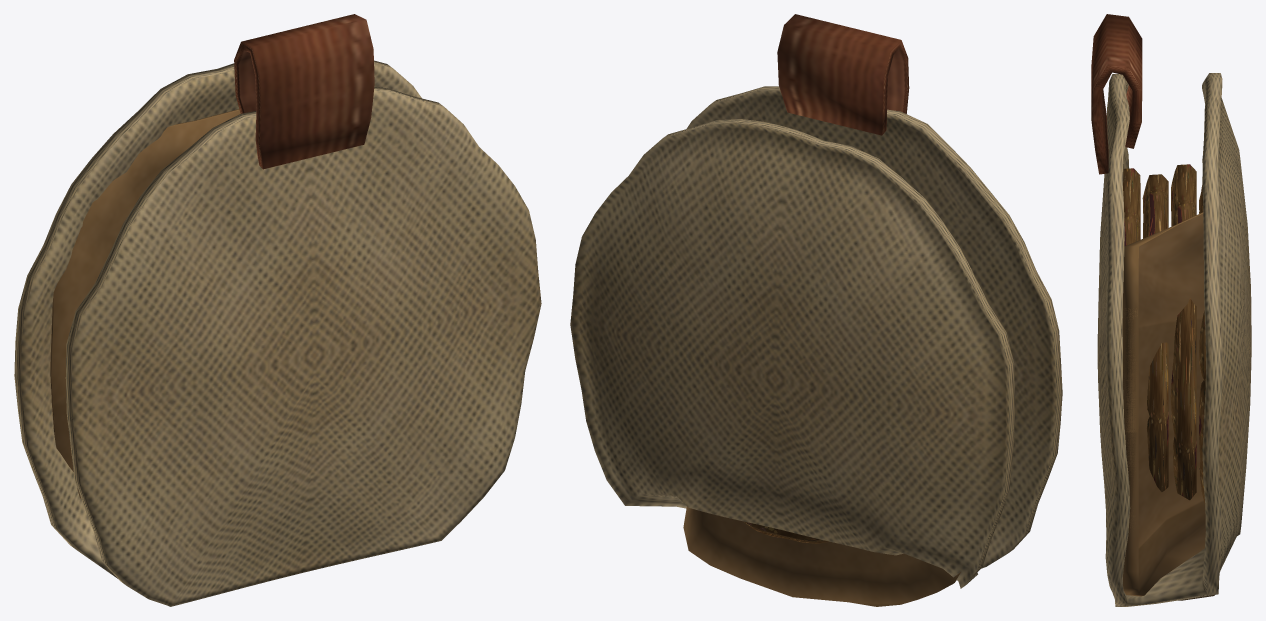
The model's file is TravelRationContents.fbx.
The picture shows the model from 3 angles, left to right: view 1: azimuth 30°, elevation 25°; view 2: azimuth 150°, elevation 25°; view 3: azimuth 270°, elevation 25°; orthographic projection. The views are drawn at different scales.
Parts seen in each view (by area): view 1: ClothFlap, ClothBase, PaperBase; view 2: ClothBase, ClothFlap, PaperBase; view 3: ClothBase, PaperBase, ClothFlap, Biscuit02, Biscuit03, PaperFlap, Biscuit04, Biscuit01.
Boxes of the visible parts, <box> form: ClothFlap: <box>65,14,541,606</box>; ClothBase: <box>14,60,441,606</box>; PaperBase: <box>50,109,240,498</box>; ClothBase: <box>570,119,1014,588</box>; ClothFlap: <box>686,14,1062,568</box>; PaperBase: <box>683,506,960,606</box>; ClothBase: <box>1116,73,1251,606</box>; PaperBase: <box>1123,212,1214,600</box>; ClothFlap: <box>1091,14,1142,606</box>; Biscuit02: <box>1170,164,1196,500</box>; Biscuit03: <box>1142,174,1168,491</box>; PaperFlap: <box>1122,308,1138,533</box>; Biscuit04: <box>1123,168,1140,246</box>; Biscuit01: <box>1199,184,1205,504</box>.
Bounding box in the file's own units: 0.0447 × 0.0513 × 0.0142.
1 material, 1 textured.
